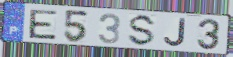3: (195, 18, 221, 51), (97, 13, 122, 45)
5: (62, 9, 90, 44)
E: (28, 9, 59, 41)
J: (163, 17, 188, 48)
S: (126, 14, 159, 48)
